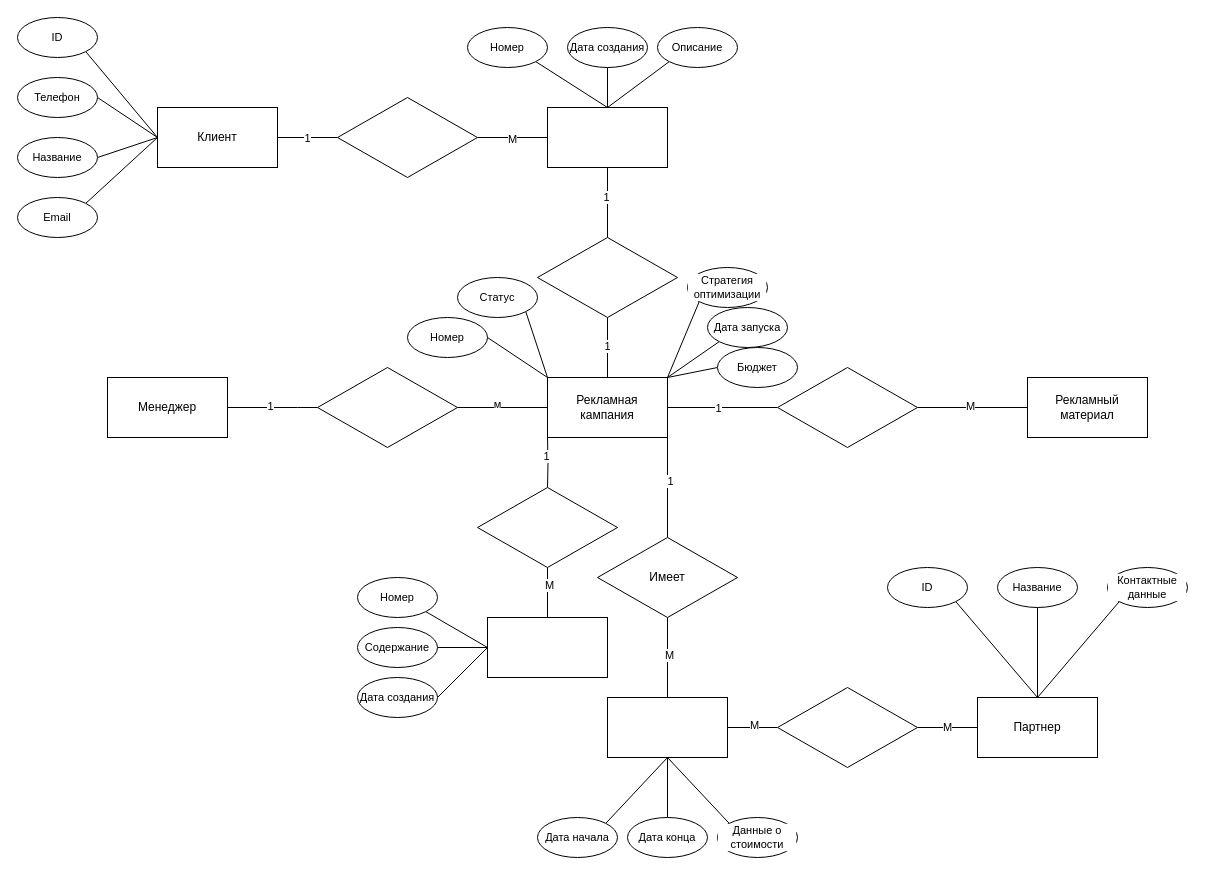
This 1205x875 diagram has some shape labels left out. The centre of each missing label's shape, as x and y in pixels:
"Генерирует" belongs at point (547, 527).
"Заявка" belongs at point (607, 137).
"Инициирует" belongs at point (607, 277).
"Оставляет" belongs at point (407, 137).
"Отчет" belongs at point (547, 647).
"Проводится у" belongs at point (847, 727).
"Размещение" belongs at point (667, 727).
"Разрабатывает" belongs at point (847, 407).
"Управляет" belongs at point (387, 407).
